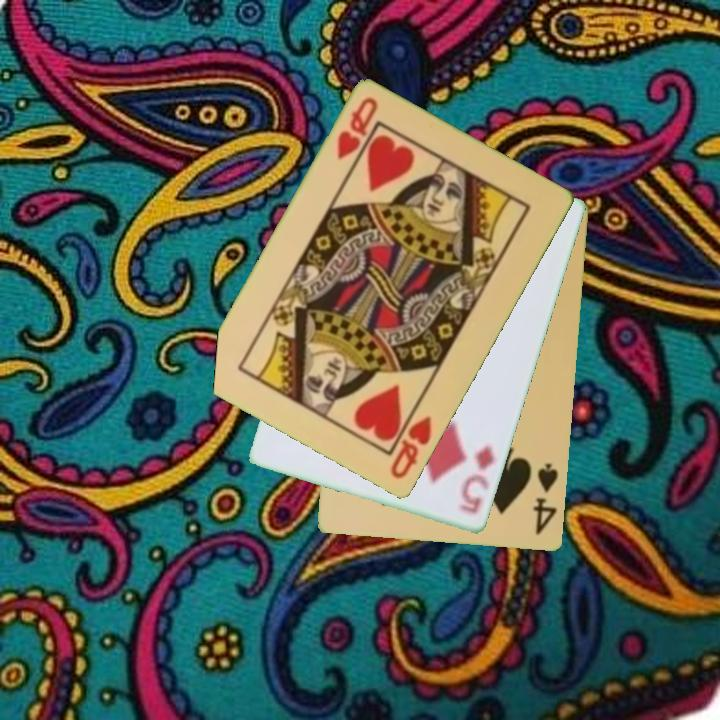4s: (529, 460, 562, 539)
5d: (455, 442, 499, 518)
Qh: (386, 402, 435, 483), (333, 94, 381, 164)
